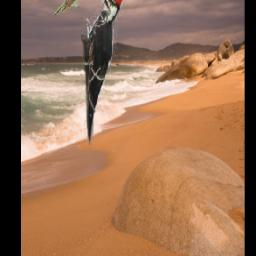Cuckoo: (54, 0, 85, 15)
Woodpecker: (81, 0, 123, 150)
